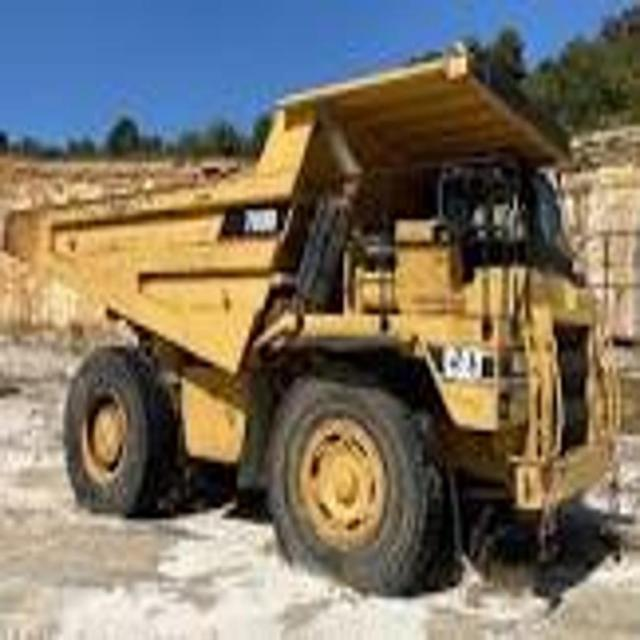dump_truck: (6, 58, 622, 605)
